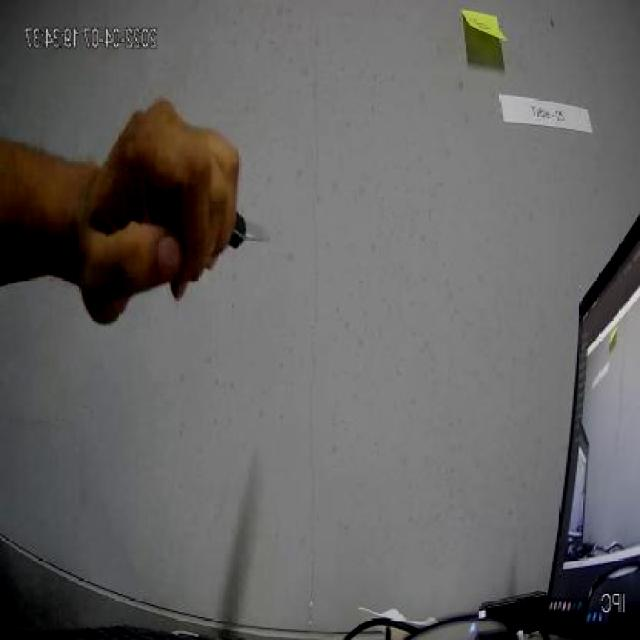knife: (134, 194, 283, 254)
